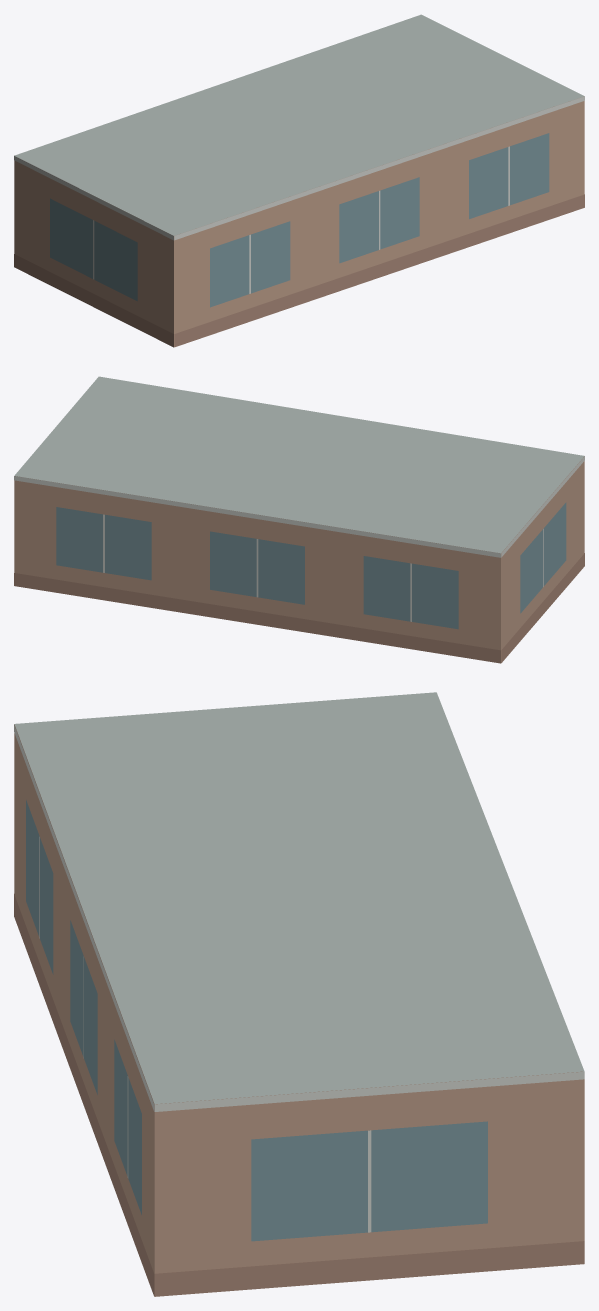
File: survey-upis-32724588.glb
The picture shows the model from 3 angles, top to bottom: view 1: azimuth 30°, elevation 25°; view 2: azimuth 150°, elevation 25°; view 3: azimuth 270°, elevation 25°; orthographic projection. The views are drawn at different scales.
Parts seen in each view (by area): view 1: survey-upis-32724588.tmp; view 2: survey-upis-32724588.tmp; view 3: survey-upis-32724588.tmp.
Part boxes in pixels (x1,y1,x2,y2): survey-upis-32724588.tmp: [14, 14, 584, 347]; survey-upis-32724588.tmp: [14, 376, 584, 663]; survey-upis-32724588.tmp: [14, 692, 584, 1296].
Bounding box in the file's own units: 14.01 × 3.05 × 8.2.
